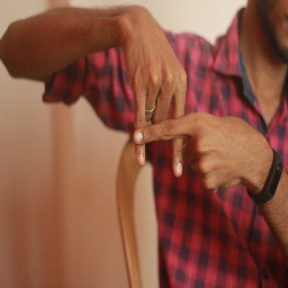H: (116, 72, 219, 177)
